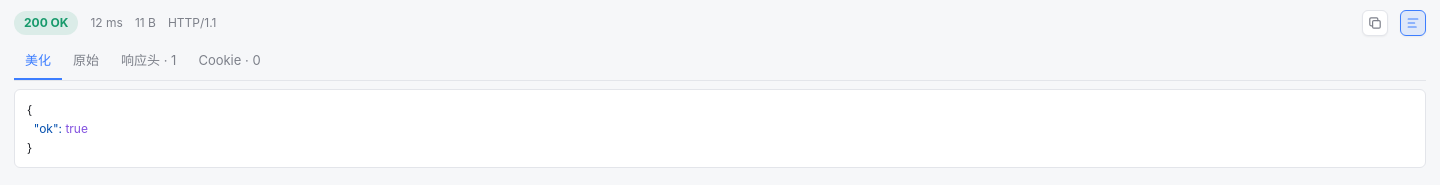
the cookie tab › says so when a request carried none
The image size is (1440, 185).
Click the button "Cookie · 0" at point(230, 62), box [187, 44, 272, 80]
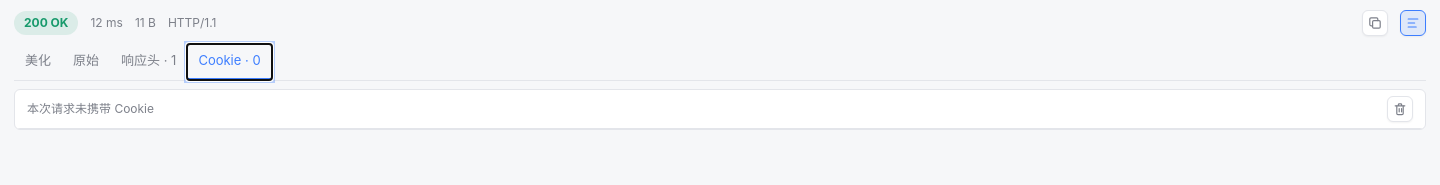
Expected: the text "本次请求未携带 Cookie" is shown, [27, 100, 154, 118]
